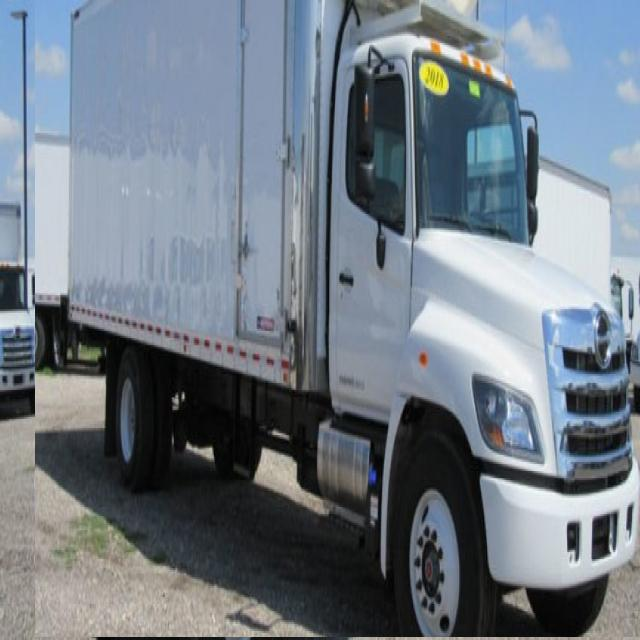truck: (35, 0, 640, 637)
